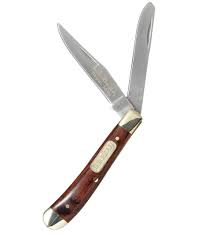knife: (34, 1, 161, 232)
